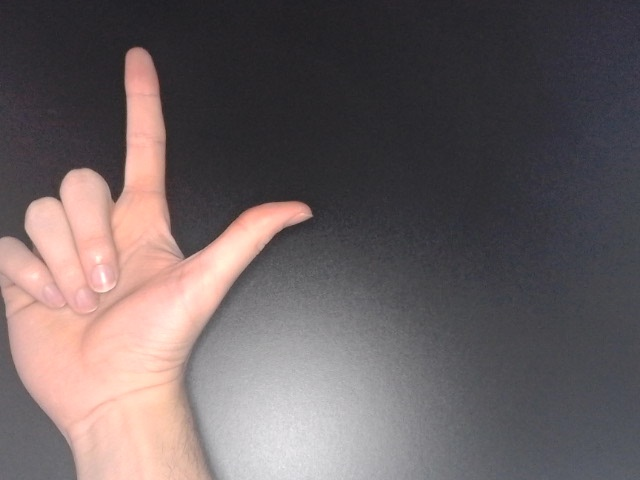l: (4, 43, 317, 441)
